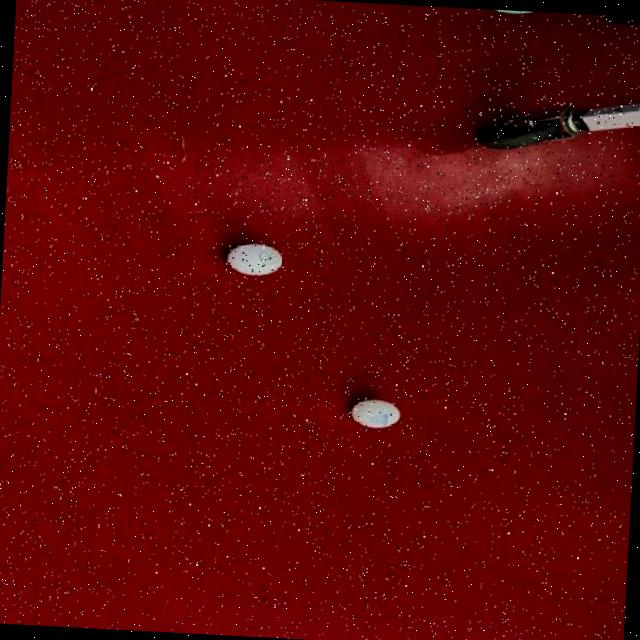ping-pong-ball: (224, 238, 286, 278), (346, 394, 406, 432)
